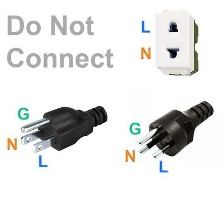three_eye_plug: (152, 4, 200, 79)
